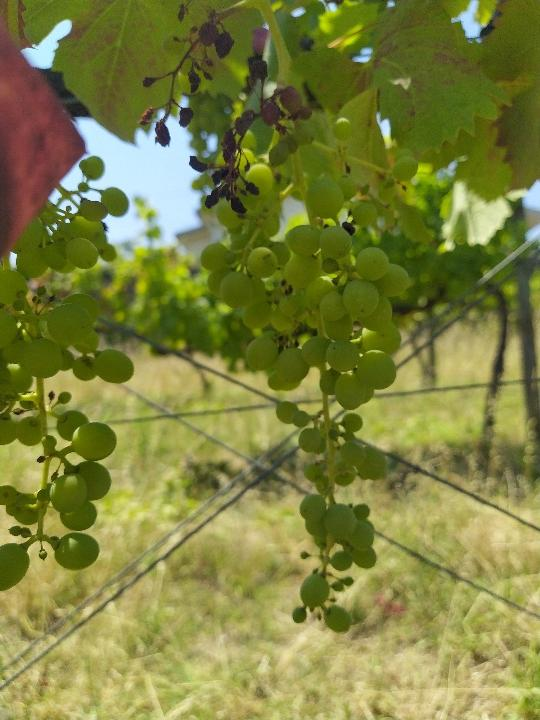grape: (199, 211, 433, 635), (0, 153, 134, 597), (135, 5, 313, 219)
